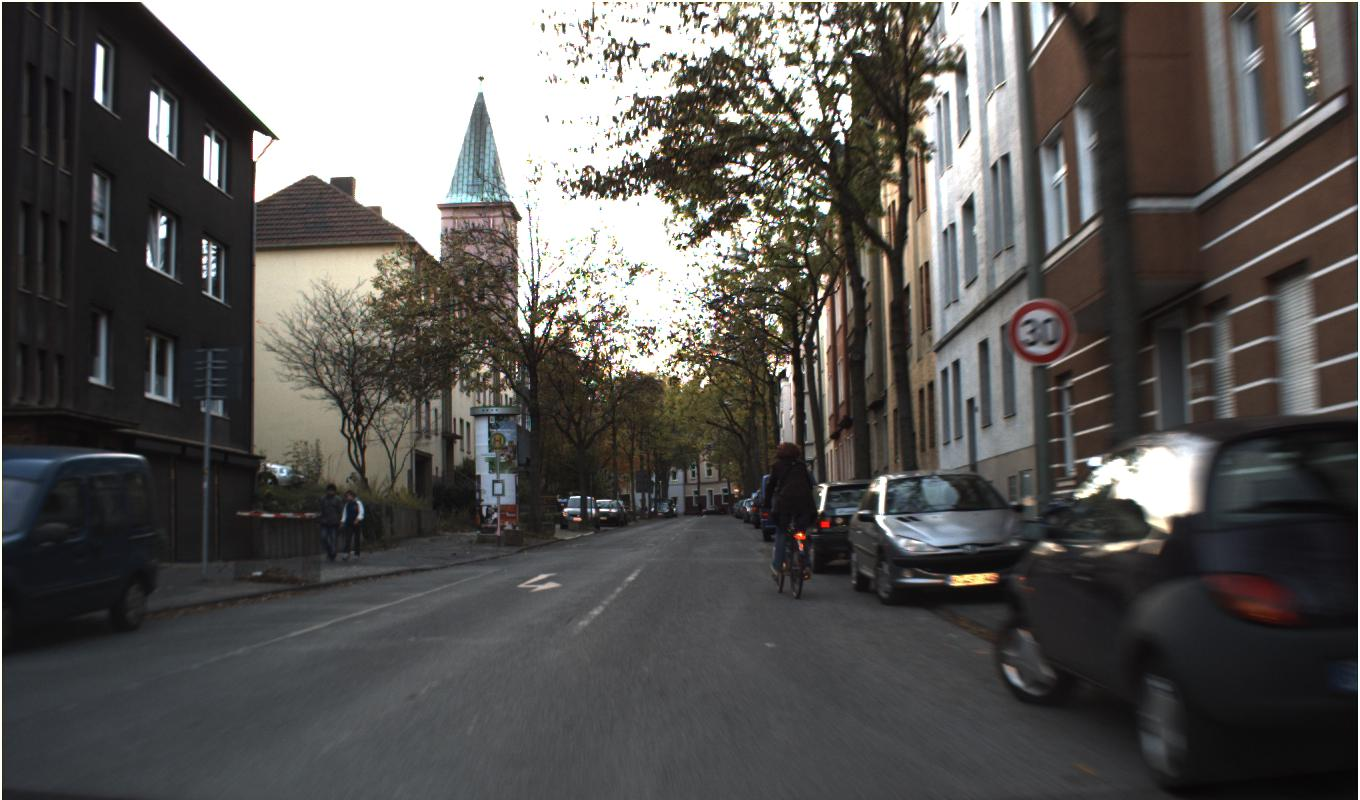prohibitory: (1008, 299, 1073, 365)
